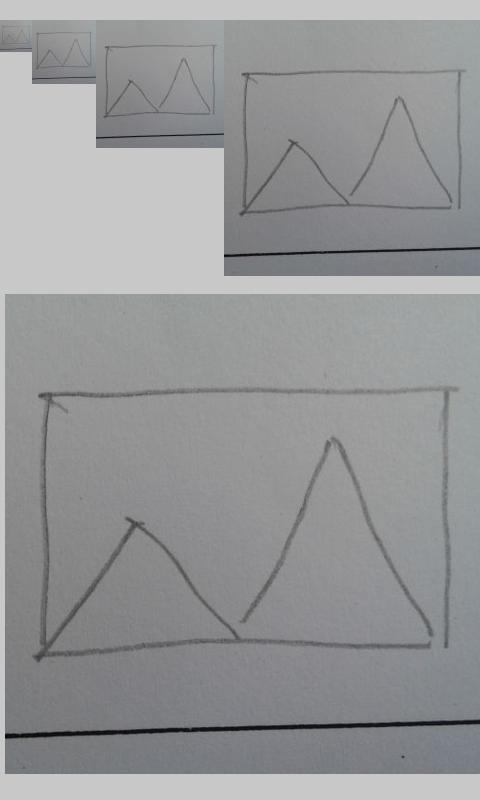image_view: (39, 383, 453, 658), (240, 67, 465, 213), (104, 44, 215, 117), (36, 31, 92, 68), (1, 24, 31, 45)
